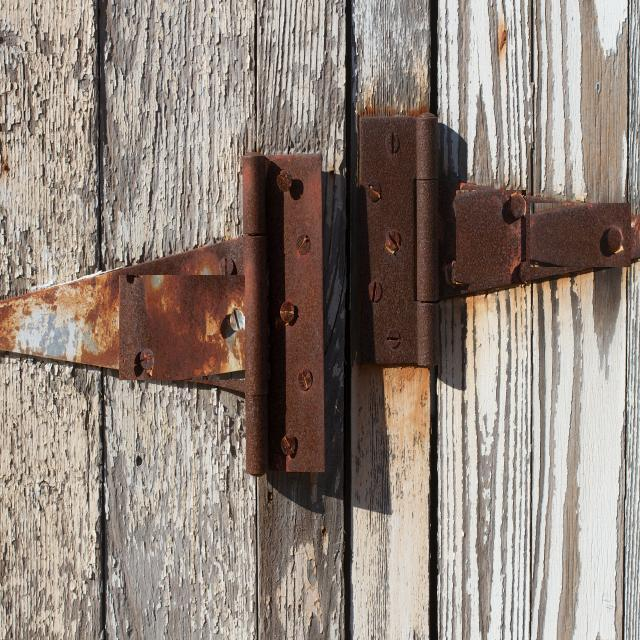Corrosion: (1, 106, 638, 478), (0, 150, 327, 476), (355, 108, 440, 366)
